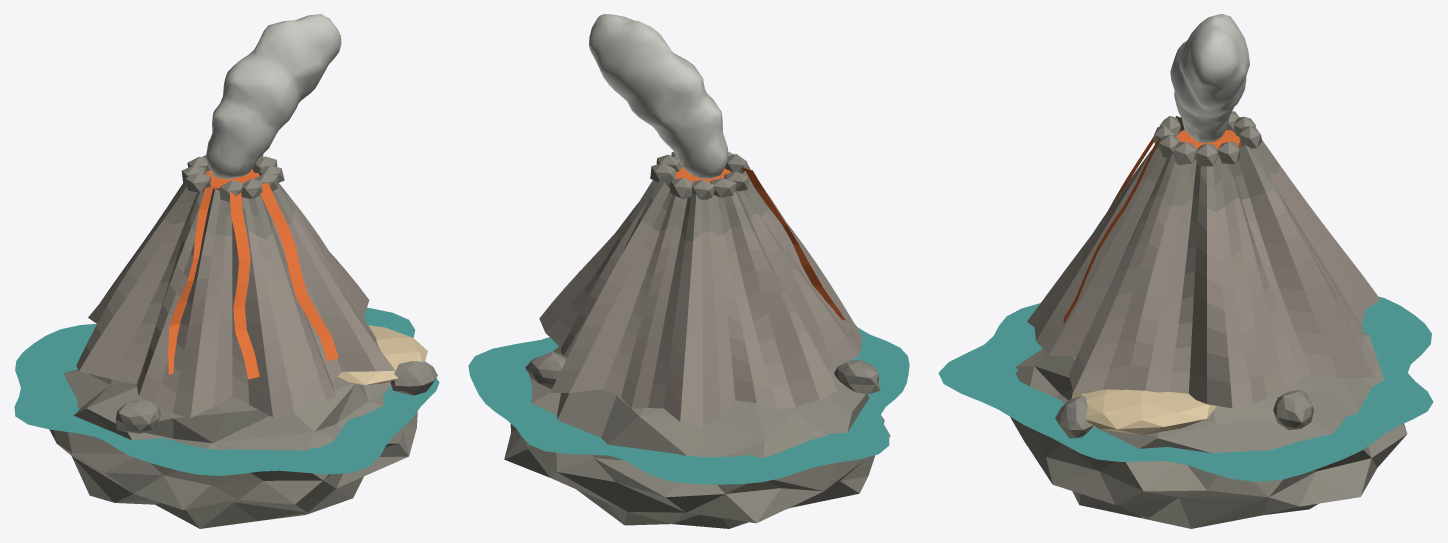
Rendered from diorama-first.glb.
The picture shows the model from 3 angles, left to right: view 1: azimuth 30°, elevation 25°; view 2: azimuth 150°, elevation 25°; view 3: azimuth 270°, elevation 25°; orthographic projection. The views are drawn at different scales.
Visible parts, largest first — view 1: Volcano | craggy ridges, Island | lumpy rock raft, Ocean | irregular shore skirt, Smoke | billowing plume, Lava | winding streak.002, Lava | winding streak.001, Sand | small beach, Lava | winding streak, Rock | loose shore stone.001, Rock | loose shore stone.002; view 2: Volcano | craggy ridges, Island | lumpy rock raft, Ocean | irregular shore skirt, Smoke | billowing plume, Rock | loose shore stone.001, Lava | winding streak, Rock | loose shore stone; view 3: Volcano | craggy ridges, Island | lumpy rock raft, Ocean | irregular shore skirt, Smoke | billowing plume, Sand | small beach, Rock | loose shore stone, Rock | loose shore stone.002, Lava | winding streak.002.
Boxes of the visible parts, x1,y1,x2,y2 form: Volcano | craggy ridges: (76, 168, 395, 417); Island | lumpy rock raft: (49, 369, 417, 528); Ocean | irregular shore skirt: (14, 307, 439, 475); Smoke | billowing plume: (205, 14, 341, 179); Lava | winding streak.002: (260, 182, 338, 360); Lava | winding streak.001: (229, 190, 259, 379); Sand | small beach: (338, 325, 427, 384); Lava | winding streak: (168, 185, 216, 374); Rock | loose shore stone.001: (115, 398, 160, 433); Rock | loose shore stone.002: (390, 361, 437, 395); Volcano | craggy ridges: (539, 167, 862, 427); Island | lumpy rock raft: (504, 346, 890, 528); Ocean | irregular shore skirt: (468, 324, 909, 484); Smoke | billowing plume: (589, 14, 727, 178); Rock | loose shore stone.001: (834, 360, 880, 393); Lava | winding streak: (741, 167, 845, 320); Rock | loose shore stone: (525, 351, 566, 388); Volcano | craggy ridges: (1027, 116, 1380, 408); Island | lumpy rock raft: (1010, 332, 1407, 528); Ocean | irregular shore skirt: (938, 296, 1433, 481); Smoke | billowing plume: (1170, 14, 1249, 143); Sand | small beach: (1071, 389, 1216, 435); Rock | loose shore stone: (1273, 390, 1313, 430); Rock | loose shore stone.002: (1055, 395, 1093, 438); Lava | winding streak.002: (1063, 137, 1159, 324).
Bounding box in the file's own units: 0.2731 × 0.303 × 0.2651.
